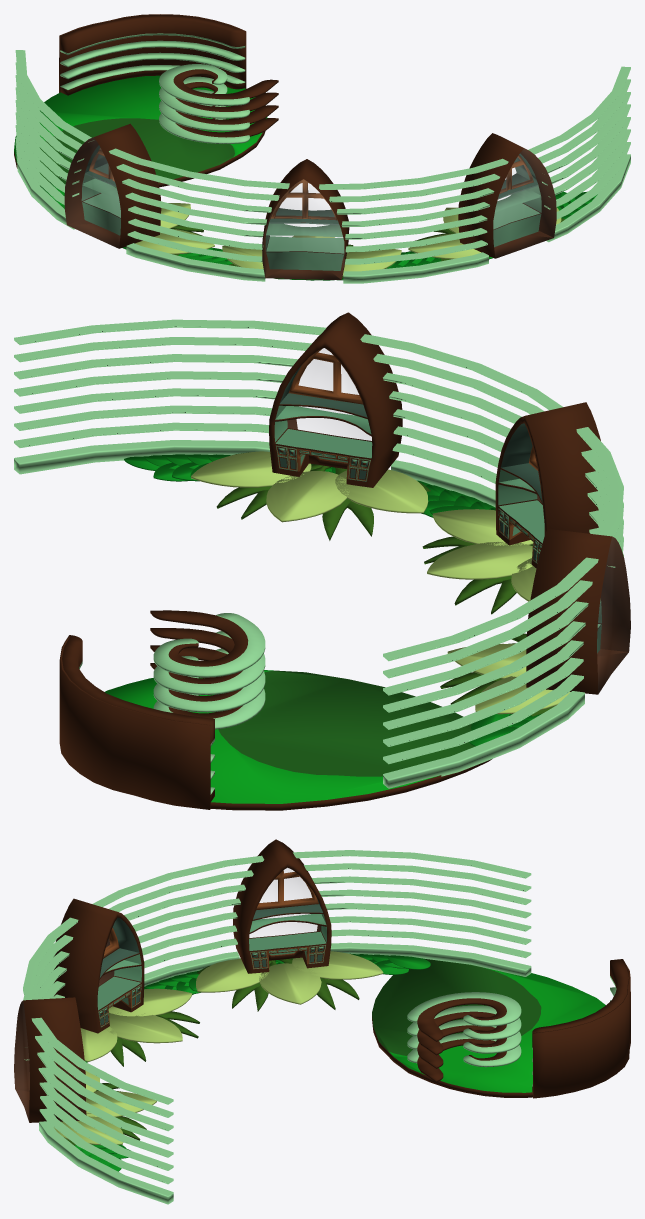
Rendered from ShelvesLvl2.fbx.
3 views of the same model, one above another, from view 1: azimuth 30°, elevation 25°; view 2: azimuth 150°, elevation 25°; view 3: azimuth 270°, elevation 25° (orthographic). The views are drawn at different scales.
Parts seen in each view (by area): view 1: GiantShelf.Lvl2, Desk.WorkStation.Lvl2, Shelves.Lvl2.002, Floor.Platform.Lvl2, Shelves.Lvl2.004, Leafs.Lvl2, WalkingPath.Lvl2, WalkingPath.Lvl2.001; view 2: GiantShelf.Lvl2, Desk.WorkStation.Lvl2, Floor.Platform.Lvl2, Leafs.Lvl2, Shelves.Lvl2.002, Shelves.Lvl2.004, WalkingPath.Lvl2, WalkingPath.Lvl2.001; view 3: GiantShelf.Lvl2, Desk.WorkStation.Lvl2, Floor.Platform.Lvl2, Leafs.Lvl2, Shelves.Lvl2.002, Shelves.Lvl2.004, WalkingPath.Lvl2, WalkingPath.Lvl2.001.
Boxes of the visible parts, left/top/right/bottom form: GiantShelf.Lvl2: left=15, top=50, right=630, bottom=283; Desk.WorkStation.Lvl2: left=64, top=123, right=556, bottom=279; Shelves.Lvl2.002: left=59, top=14, right=246, bottom=95; Floor.Platform.Lvl2: left=14, top=75, right=267, bottom=188; Shelves.Lvl2.004: left=159, top=64, right=278, bottom=143; Leafs.Lvl2: left=125, top=203, right=564, bottom=278; WalkingPath.Lvl2: left=40, top=182, right=597, bottom=280; WalkingPath.Lvl2.001: left=63, top=191, right=575, bottom=267; GiantShelf.Lvl2: left=14, top=319, right=623, bottom=788; Desk.WorkStation.Lvl2: left=269, top=312, right=630, bottom=694; Floor.Platform.Lvl2: left=105, top=670, right=491, bottom=810; Leafs.Lvl2: left=191, top=451, right=570, bottom=716; Shelves.Lvl2.002: left=59, top=635, right=214, bottom=809; Shelves.Lvl2.004: left=150, top=610, right=265, bottom=729; WalkingPath.Lvl2: left=124, top=454, right=541, bottom=746; WalkingPath.Lvl2.001: left=153, top=462, right=512, bottom=730; GiantShelf.Lvl2: left=23, top=850, right=531, bottom=1204; Desk.WorkStation.Lvl2: left=14, top=839, right=331, bottom=1122; Floor.Platform.Lvl2: left=372, top=958, right=605, bottom=1097; Leafs.Lvl2: left=54, top=951, right=383, bottom=1145; Shelves.Lvl2.002: left=532, top=959, right=630, bottom=1098; Shelves.Lvl2.004: left=407, top=992, right=521, bottom=1082; WalkingPath.Lvl2: left=74, top=953, right=430, bottom=1171; WalkingPath.Lvl2.001: left=85, top=959, right=408, bottom=1158.
Size of the model in its own units: 2863 by 631 by 2911.
